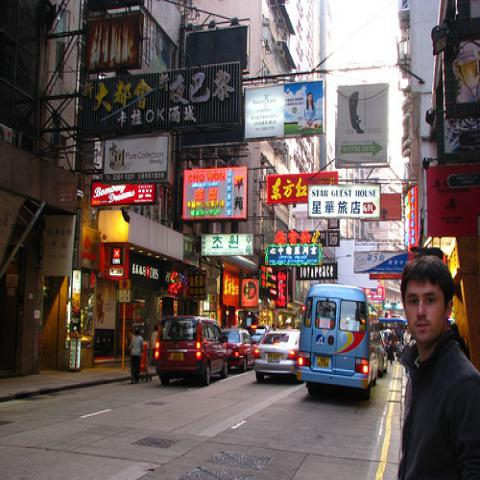bus: (296, 285, 380, 398)
car: (154, 316, 228, 386), (254, 330, 304, 384), (221, 328, 258, 373), (250, 329, 269, 346)
